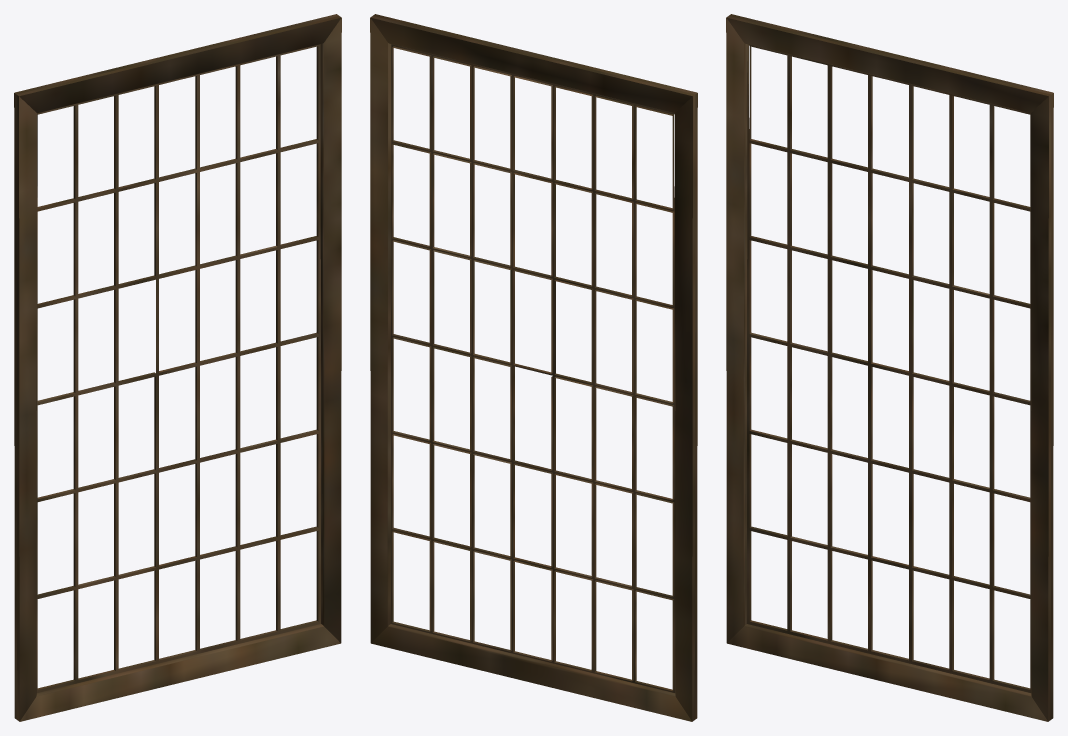
File: window-generic-without-glass.obj
3 renders of one model, left to right at view 1: azimuth 30°, elevation 25°; view 2: azimuth 150°, elevation 25°; view 3: azimuth 330°, elevation 25°, orthographic.
Parts seen in each view (by area): view 1: Line040; view 2: Line040; view 3: Line040.
Boxes of the visible parts, x1,y1,x2,y2 form: Line040: (14, 14, 341, 721); Line040: (370, 14, 697, 721); Line040: (726, 14, 1053, 721).
Size of the model in its own units: 112 by 207 by 2.94.
